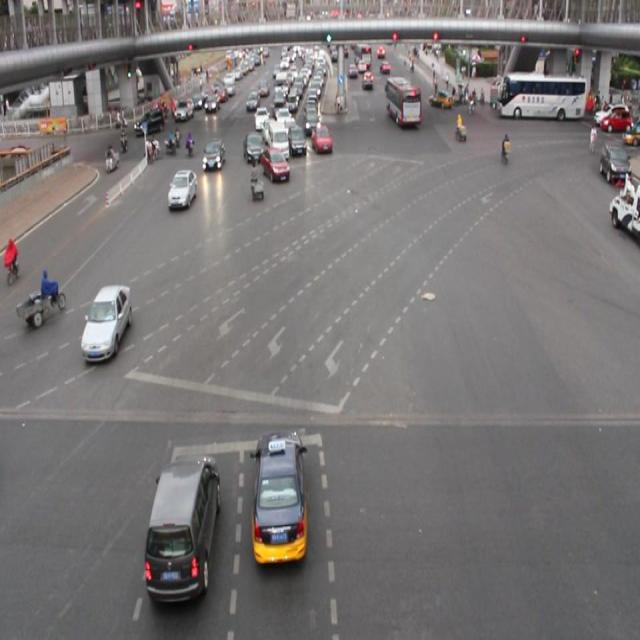car: (249, 430, 309, 570), (82, 286, 132, 362), (168, 170, 197, 212), (261, 148, 289, 183), (243, 130, 265, 164), (202, 140, 225, 172), (310, 122, 332, 155), (288, 123, 306, 156), (253, 105, 269, 132)
truck: (147, 452, 219, 600), (263, 118, 288, 162)
